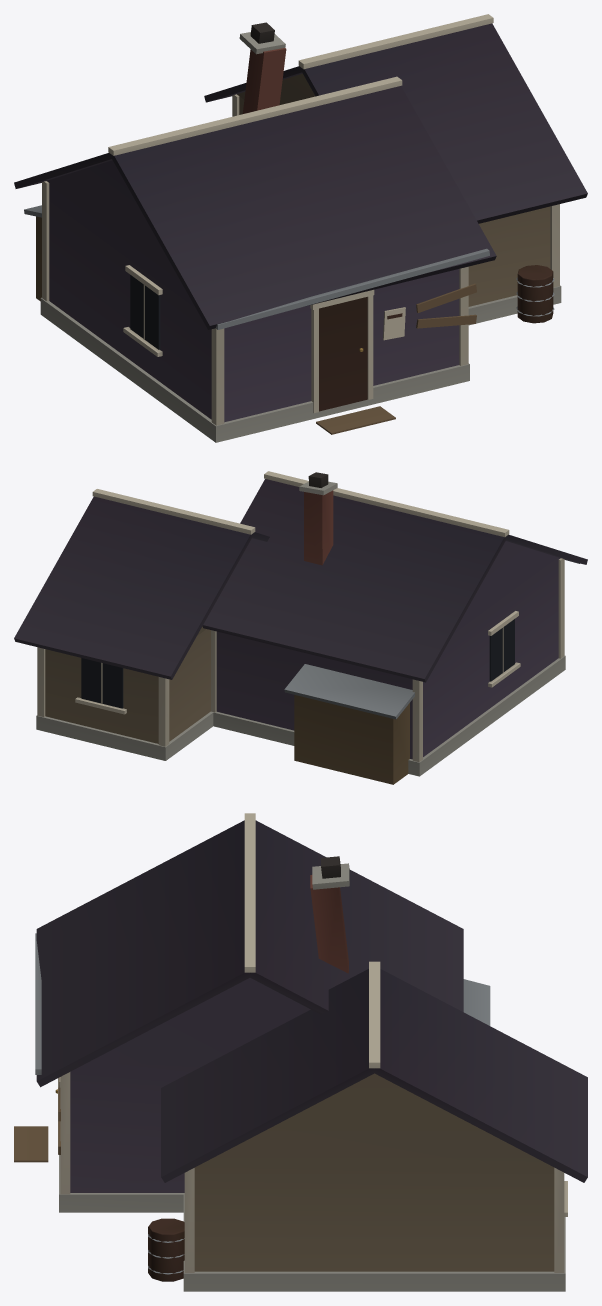
Rendered from shell_derelict_lshape.glb.
3 views of the same model, one above another, from view 1: azimuth 30°, elevation 25°; view 2: azimuth 150°, elevation 25°; view 3: azimuth 270°, elevation 25° (orthographic). The views are drawn at different scales.
Visible parts, largest first — view 1: shell_derelict_lshape; view 2: shell_derelict_lshape; view 3: shell_derelict_lshape.
Part boxes in pixels (x1=…): shell_derelict_lshape: x1=14, y1=14, x2=587, y2=442; shell_derelict_lshape: x1=14, y1=471, x2=587, y2=784; shell_derelict_lshape: x1=14, y1=813, x2=587, y2=1291.
Size of the model in its own units: 8.84 by 5.48 by 9.22.
